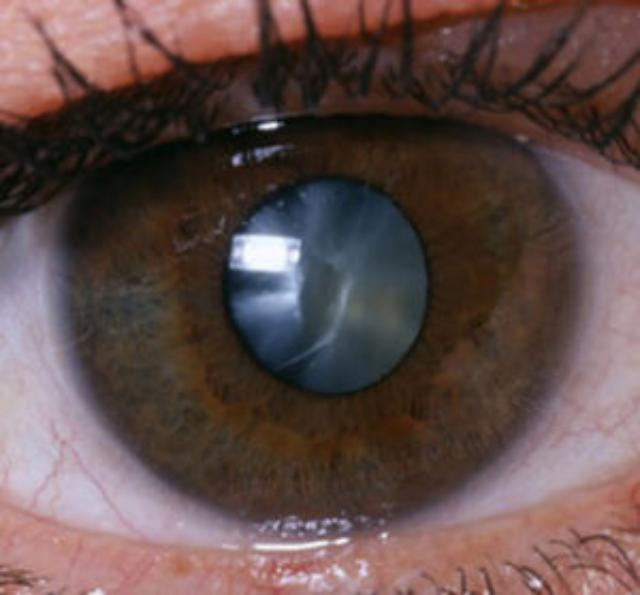eye: (56, 105, 584, 534)
